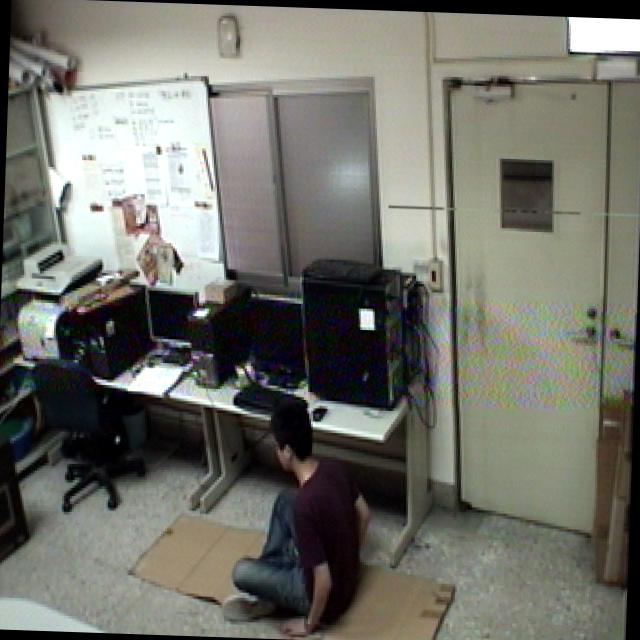sit: (218, 391, 383, 640)
